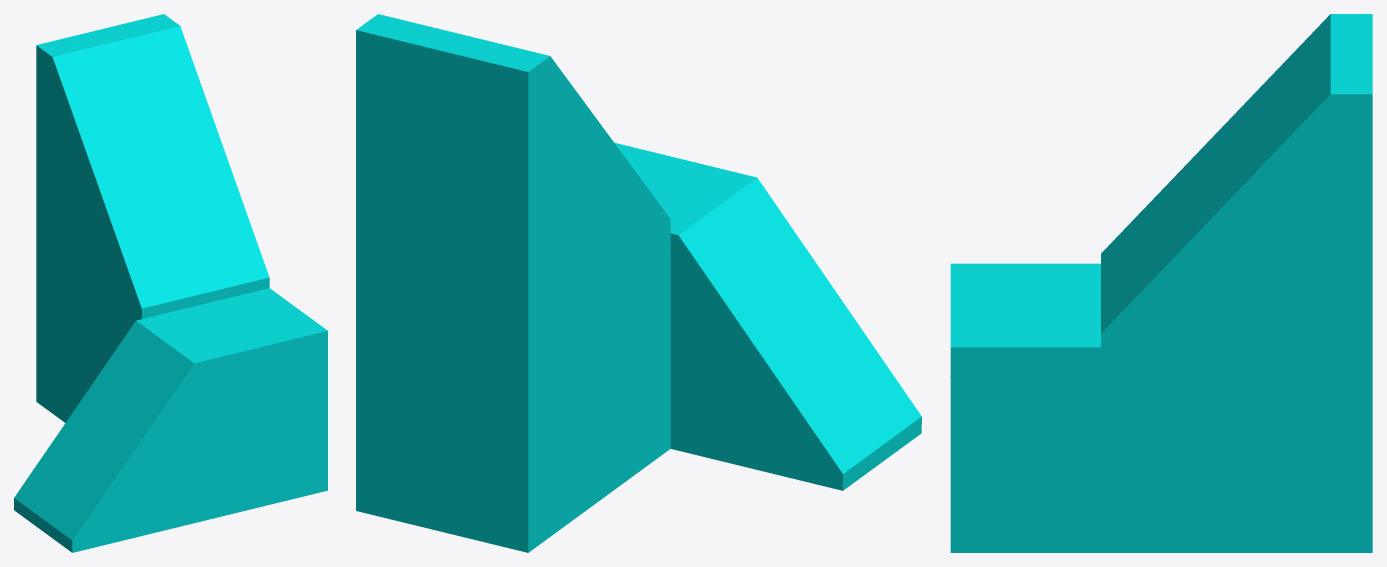
File: SM_Bld_Stairs_Corner_02_Collision.fbx
The picture shows the model from 3 angles, left to right: view 1: azimuth 30°, elevation 25°; view 2: azimuth 150°, elevation 25°; view 3: azimuth 270°, elevation 25°; orthographic projection. The views are drawn at different scales.
Visible parts, largest first — view 1: SM_Bld_Stairs_Corner_02_Collision; view 2: SM_Bld_Stairs_Corner_02_Collision; view 3: SM_Bld_Stairs_Corner_02_Collision.
Boxes of the visible parts, x1=… form: SM_Bld_Stairs_Corner_02_Collision: x1=14, y1=14, x2=327, y2=552; SM_Bld_Stairs_Corner_02_Collision: x1=356, y1=14, x2=921, y2=552; SM_Bld_Stairs_Corner_02_Collision: x1=950, y1=14, x2=1372, y2=552.
Size of the model in its own units: 450 by 600 by 500.
